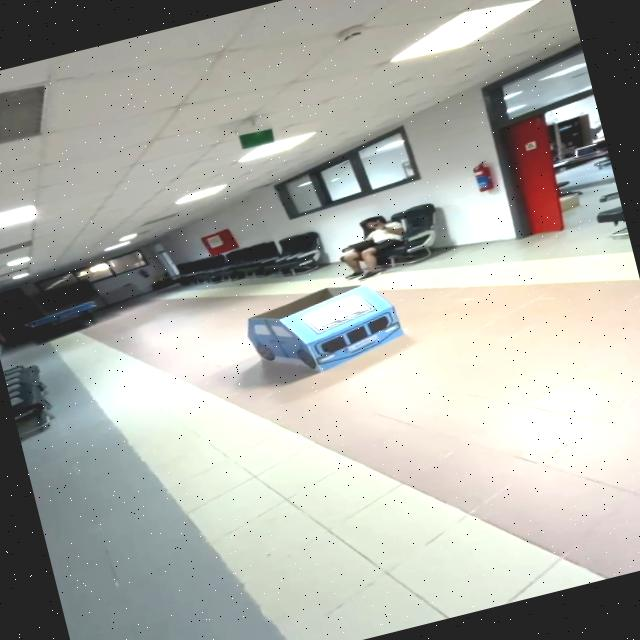blue_car: (219, 257, 434, 402)
